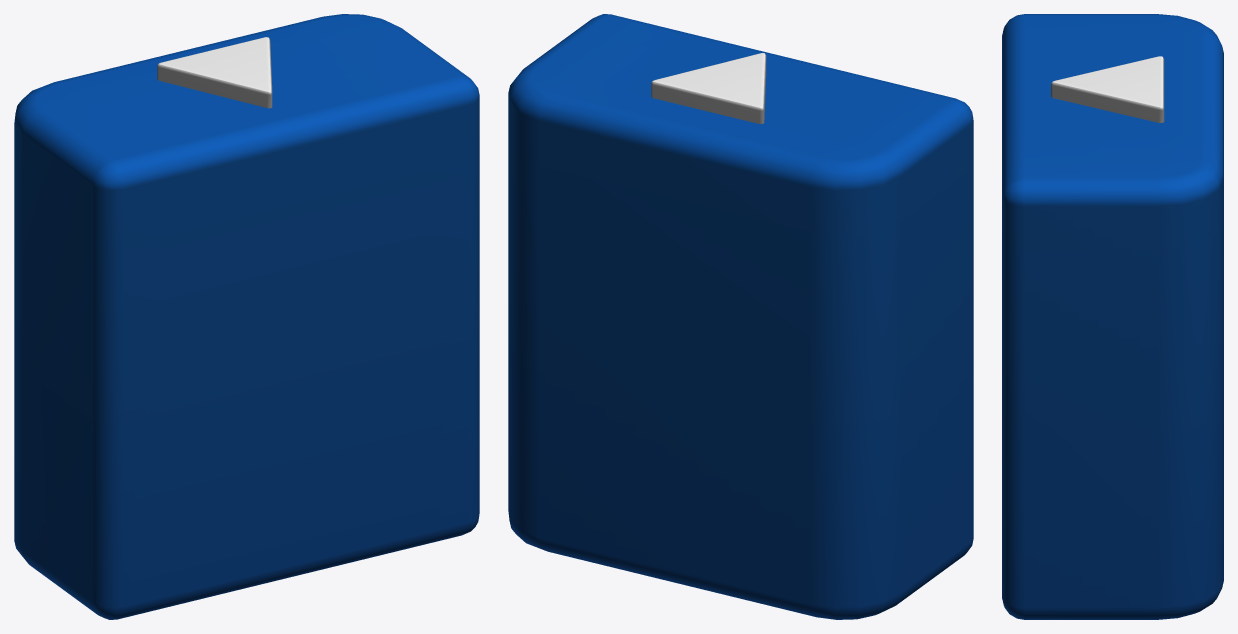
The model's file is Blast_DarkBlue.fbx.
3 renders of one model, left to right at view 1: azimuth 30°, elevation 25°; view 2: azimuth 150°, elevation 25°; view 3: azimuth 270°, elevation 25°, orthographic. The views are drawn at different scales.
Visible parts, largest first — view 1: Blast_DarkBlue; view 2: Blast_DarkBlue; view 3: Blast_DarkBlue.
Part boxes in pixels (x1,y1,x2,y2): Blast_DarkBlue: (14, 14, 479, 619); Blast_DarkBlue: (508, 14, 973, 619); Blast_DarkBlue: (1002, 14, 1223, 619).
Bounding box in the file's own units: 1.01 × 1.19 × 0.525.
Materials: 1 (1 with a texture image).
